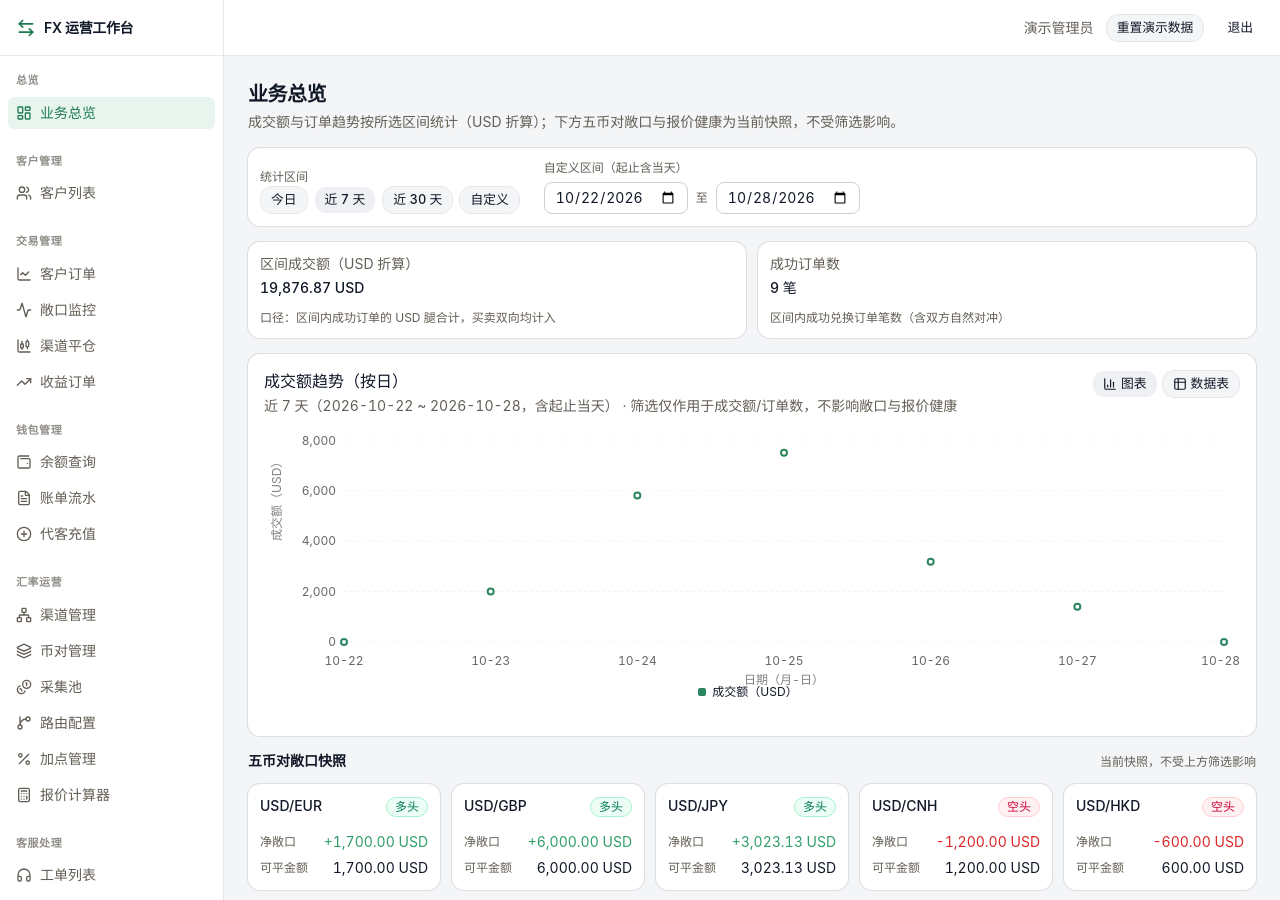
Test: 区间筛选 › 切换到今日（空窗）：KPI 归零，敞口与报价健康快照不受筛选影响
This screenshot has width=1280, height=900.
Click the button "今日": (284, 200) [260,186,308,214]
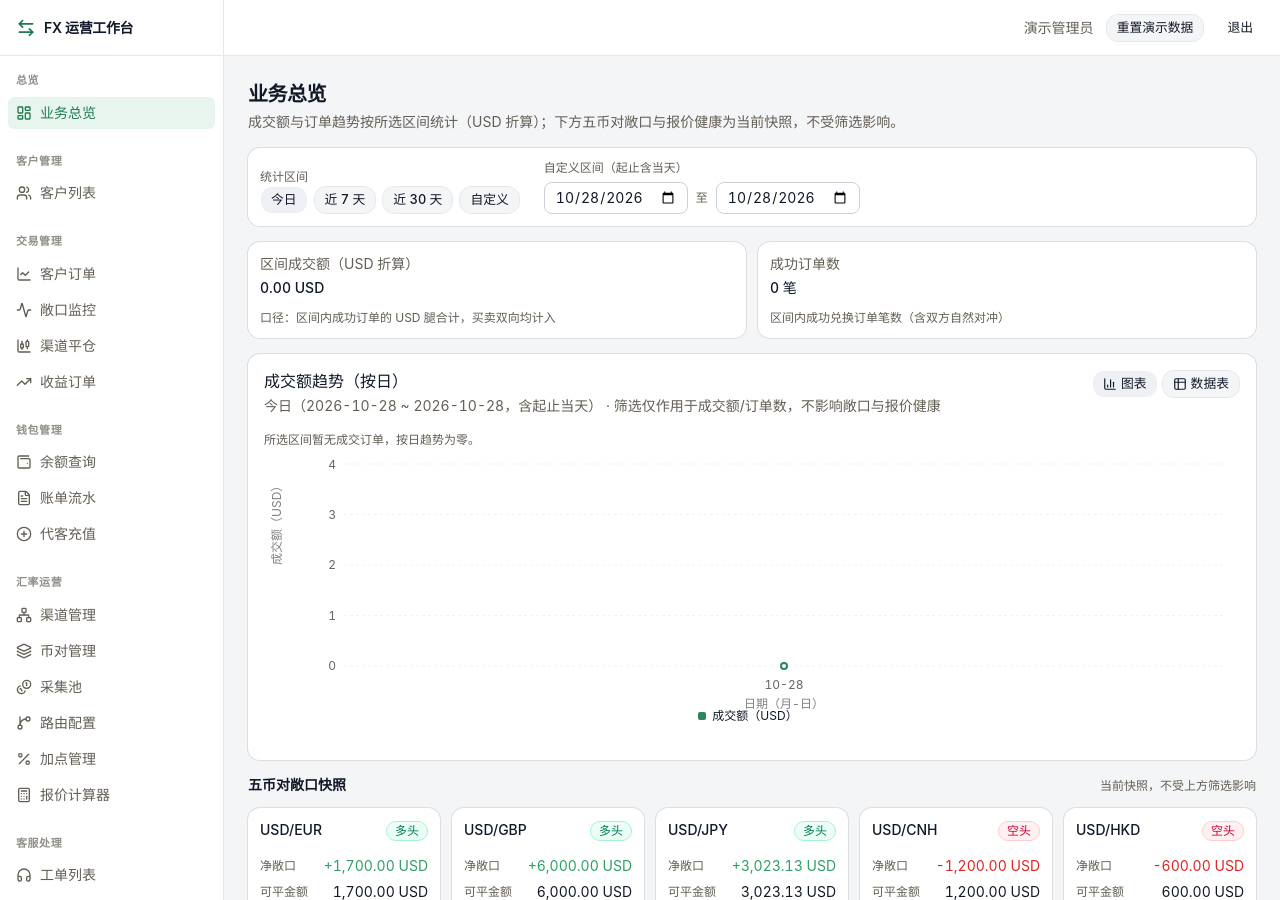
Expected: the text "今日（2026-10-28 ~ 2026-10-28，含起止当天）" is shown, [264,397,941,414]
Expected: the text "0 笔" is shown, [770,279,797,296]
Expected: the text "所选区间暂无成交订单" is shown, [264,432,480,447]
